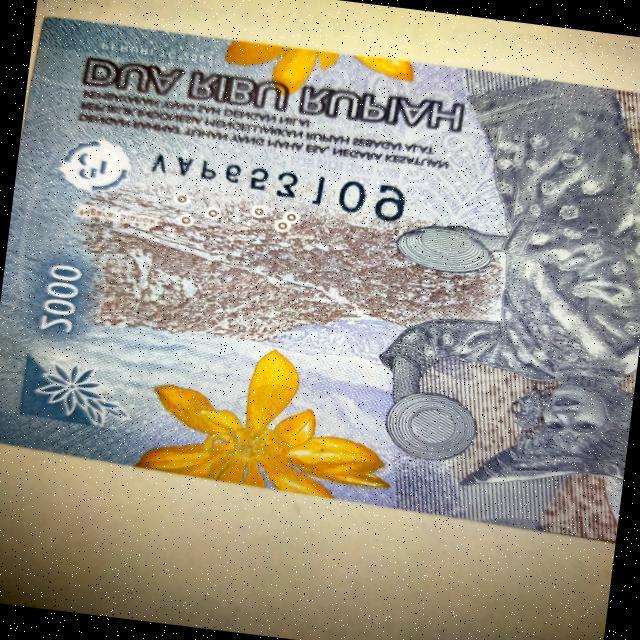2K: (0, 11, 640, 551)
